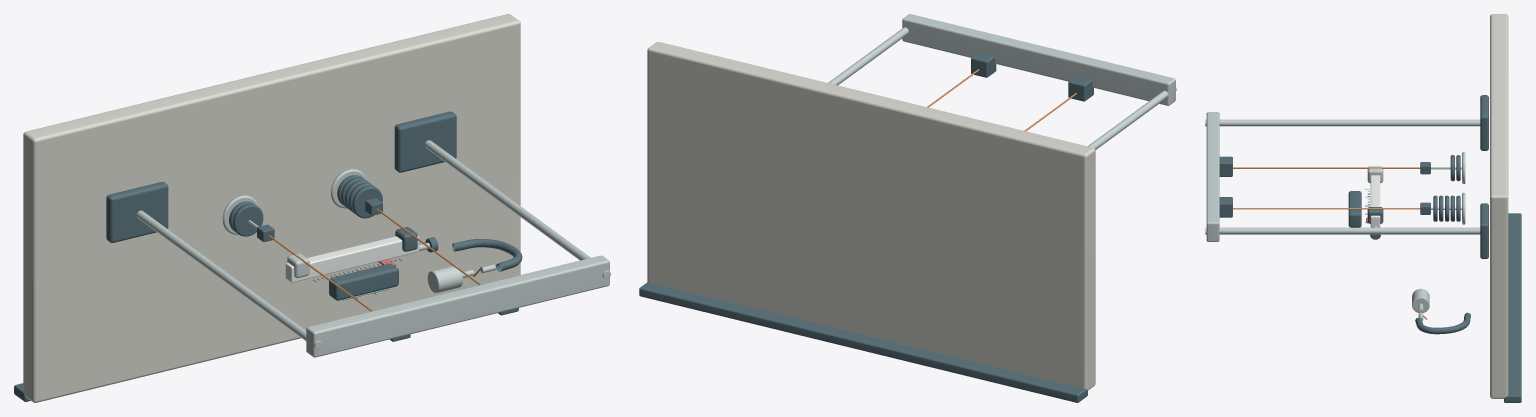
Rendered from rp04-young-modulus.glb.
The picture shows the model from 3 angles, left to right: view 1: azimuth 30°, elevation 25°; view 2: azimuth 150°, elevation 25°; view 3: azimuth 270°, elevation 25°; orthographic projection. The views are drawn at different scales.
Visible parts, largest first — view 1: Lab bench surface, Rigid overhead support, Retort stand weighted foot.001, Retort stand weighted foot, Vernier comparison bridge, Retort stand vertical rod, Retort stand vertical rod.001, Spirit level housing, Micrometer C frame, Micrometer thimble, Fixed reference preload.001, Added test-wire load.004; view 2: Lab bench surface, Rigid overhead support, Bench front face, Retort stand vertical rod, Retort stand vertical rod.001, Upper wire clamp, Upper wire clamp.001; view 3: Lab bench surface, Bench front face, Retort stand vertical rod.001, Retort stand vertical rod, Rigid overhead support, Retort stand weighted foot, Retort stand weighted foot.001, Spirit level housing, Vernier comparison bridge, Micrometer C frame, Long suspended wire, Long suspended wire.001 (+3 smaller).
Part boxes in pixels (box(x1,y1,x2,y2)): Lab bench surface: box(23, 14, 520, 402); Rigid overhead support: box(306, 255, 609, 357); Retort stand weighted foot.001: box(394, 111, 456, 172); Retort stand weighted foot: box(106, 182, 168, 242); Vernier comparison bridge: box(285, 236, 419, 282); Retort stand vertical rod: box(136, 210, 322, 349); Retort stand vertical rod.001: box(424, 140, 610, 278); Spirit level housing: box(329, 263, 398, 300); Micrometer C frame: box(452, 239, 522, 271); Micrometer thimble: box(427, 265, 462, 293); Fixed reference preload.001: box(232, 204, 263, 236); Added test-wire load.004: box(352, 186, 382, 218); Lab bench surface: box(647, 42, 1095, 390); Rigid overhead support: box(902, 14, 1175, 105); Bench front face: box(639, 282, 1087, 402); Retort stand vertical rod: box(1087, 87, 1176, 149); Retort stand vertical rod.001: box(828, 27, 908, 85); Upper wire clamp: box(1068, 76, 1093, 101); Upper wire clamp.001: box(971, 52, 996, 77); Lab bench surface: box(1490, 14, 1508, 398); Bench front face: box(1504, 213, 1521, 402); Retort stand vertical rod.001: box(1205, 227, 1480, 234); Retort stand vertical rod: box(1205, 119, 1480, 126); Rigid overhead support: box(1206, 112, 1219, 241); Retort stand weighted foot: box(1480, 95, 1488, 150); Retort stand weighted foot.001: box(1480, 203, 1488, 258); Spirit level housing: box(1348, 191, 1361, 227); Vernier comparison bridge: box(1370, 175, 1380, 227); Micrometer C frame: box(1415, 312, 1470, 334); Long suspended wire: box(1233, 167, 1420, 168); Long suspended wire.001: box(1233, 208, 1420, 209).
Bounding box in the file's own units: 8.3 × 4.38 × 6.06.
